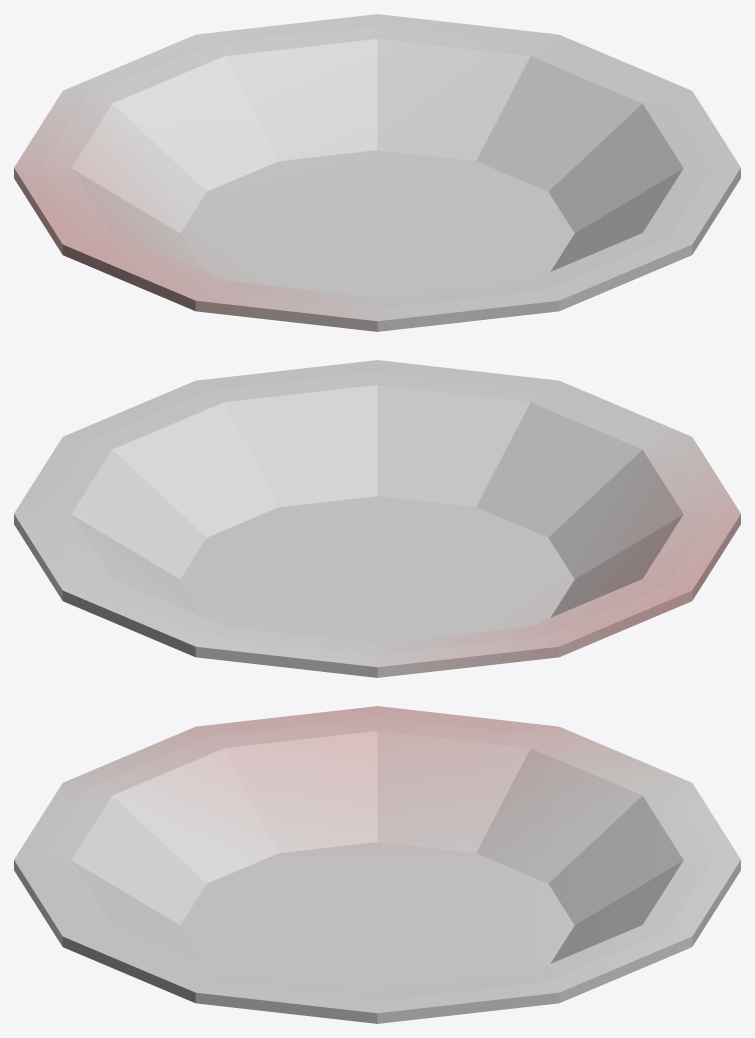
Rendered from Prop_Plate.fbx.
3 views of the same model, one above another, from view 1: azimuth 30°, elevation 25°; view 2: azimuth 150°, elevation 25°; view 3: azimuth 270°, elevation 25° (orthographic).
Parts seen in each view (by area): view 1: Cylinder.007; view 2: Cylinder.007; view 3: Cylinder.007.
Part boxes in pixels (x1,y1,x2,y2): Cylinder.007: (14, 14, 740, 331); Cylinder.007: (14, 360, 740, 677); Cylinder.007: (14, 706, 740, 1023).
Size of the model in its own units: 44.45 by 5.38 by 44.45.
